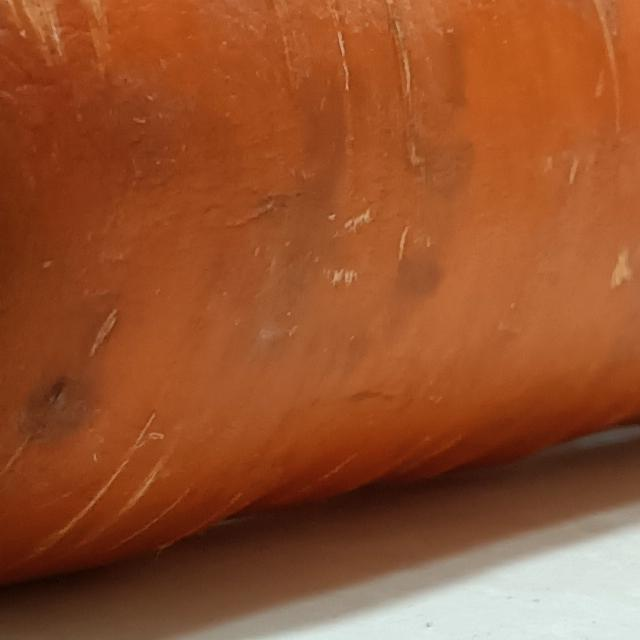carrot: (1, 1, 640, 601)
